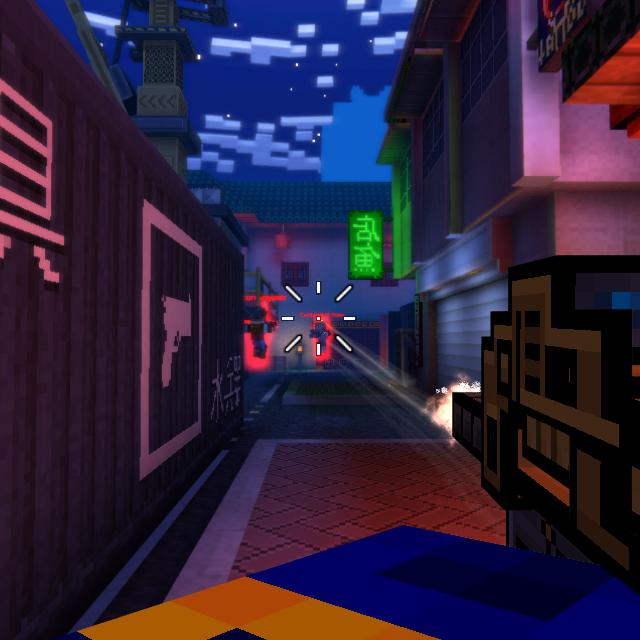Enemy: (244, 310, 275, 359), (309, 321, 331, 353)
